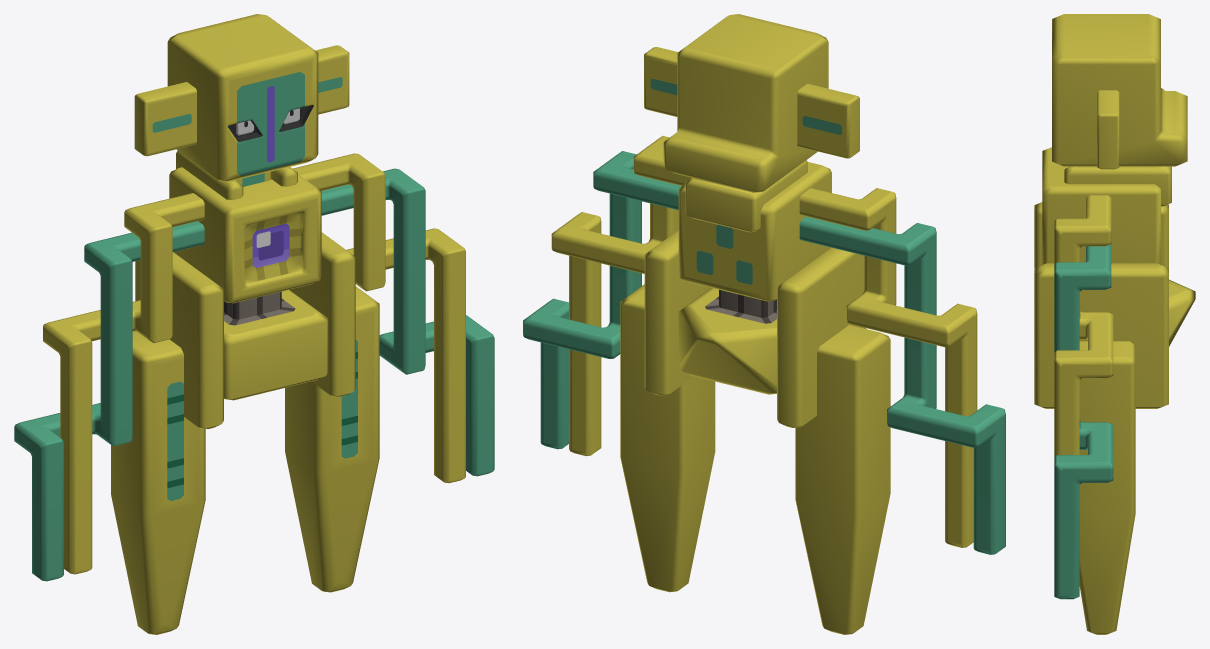
The picture shows the model from 3 angles, left to right: view 1: azimuth 30°, elevation 25°; view 2: azimuth 150°, elevation 25°; view 3: azimuth 270°, elevation 25°; orthographic projection. The views are drawn at different scales.
Parts seen in each view (by area): view 1: model; view 2: model; view 3: model.
Part boxes in pixels (box(x1,y1,x2,y2)): model: box(14, 14, 494, 634); model: box(523, 14, 1005, 634); model: box(1034, 14, 1195, 634).
Size of the model in its own units: 3.37 by 4.02 by 1.06.
